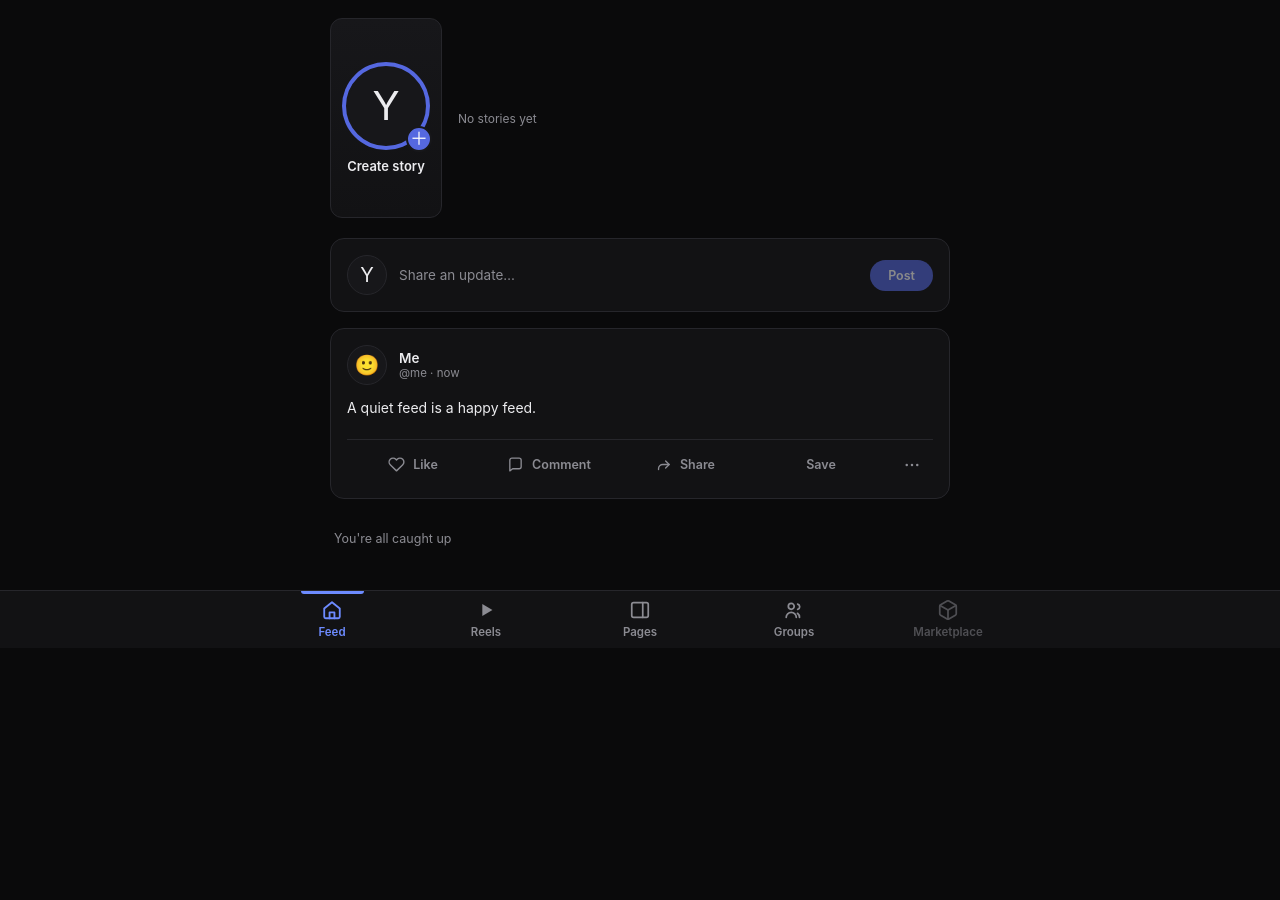
Scenario: FeedView action hierarchy › shows a Delete action in the menu for the viewer's own post
The width and height of the screenshot is (1280, 900).
expect the text "A quiet feed is a happy feed." is shown: met, box [347,399,536,416]
Step 1. Click the button named "More options" → (912, 465), box [891,448,933,482]
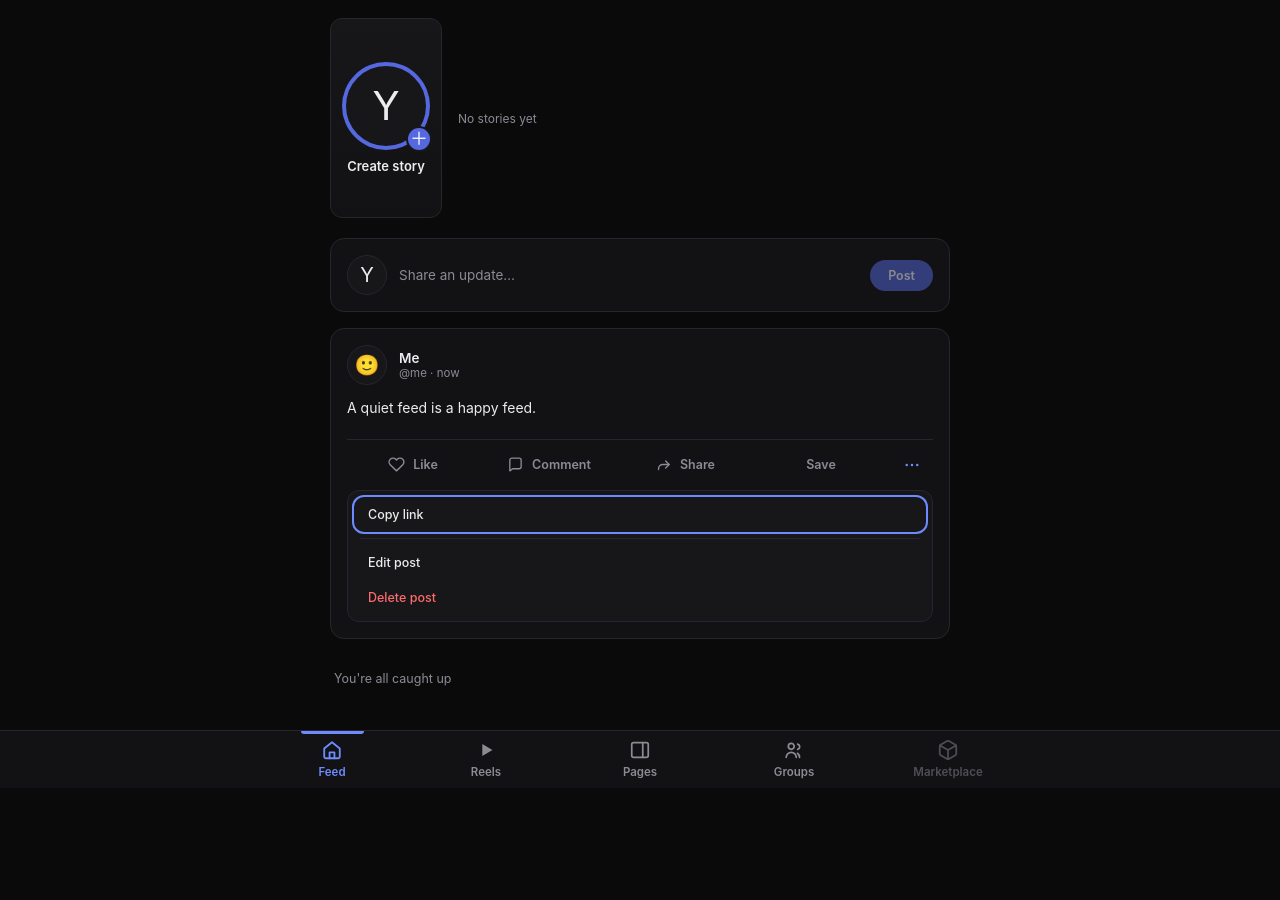
expect the menu item "Delete post" is shown: met, box [356,582,924,613]
